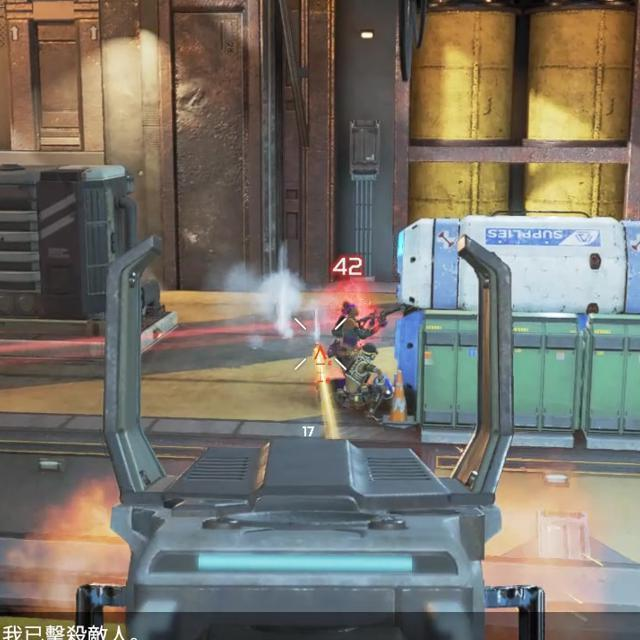avatar: (339, 344, 389, 423), (325, 299, 373, 362)
